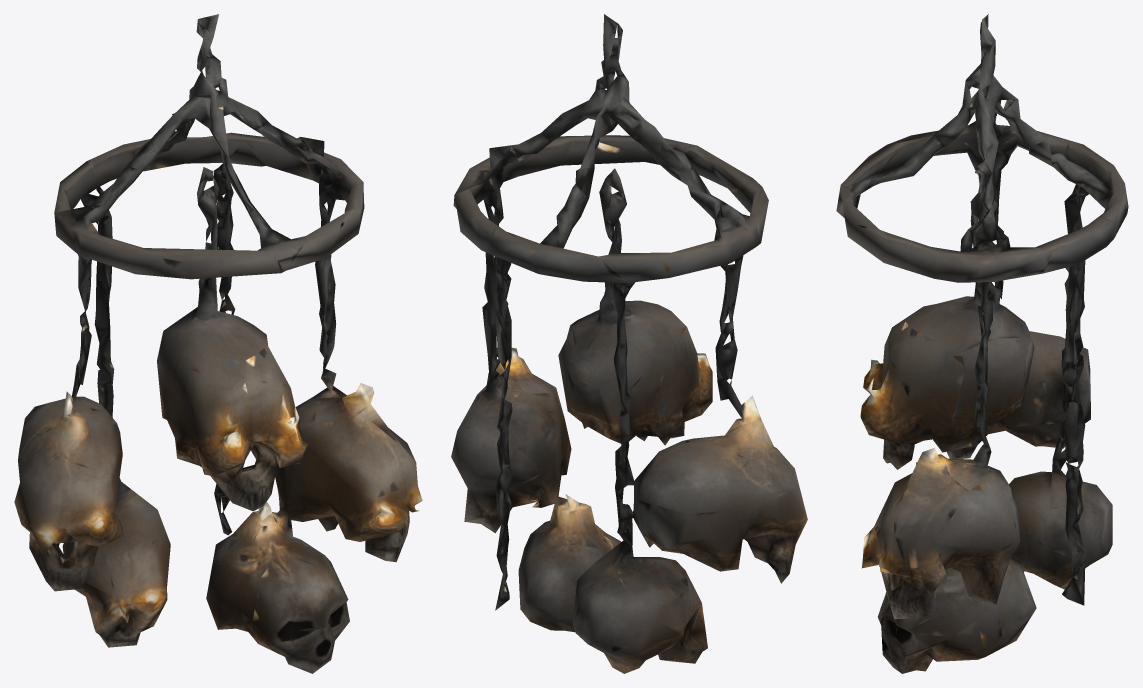
Rendered from skull_chandelier.glb.
3 views of the same model, side by side, from view 1: azimuth 30°, elevation 25°; view 2: azimuth 150°, elevation 25°; view 3: azimuth 270°, elevation 25° (orthographic). The views are drawn at different scales.
Size of the model in its own units: 1.18 by 1.99 by 0.844.
Materials: 1 (1 with a texture image).
